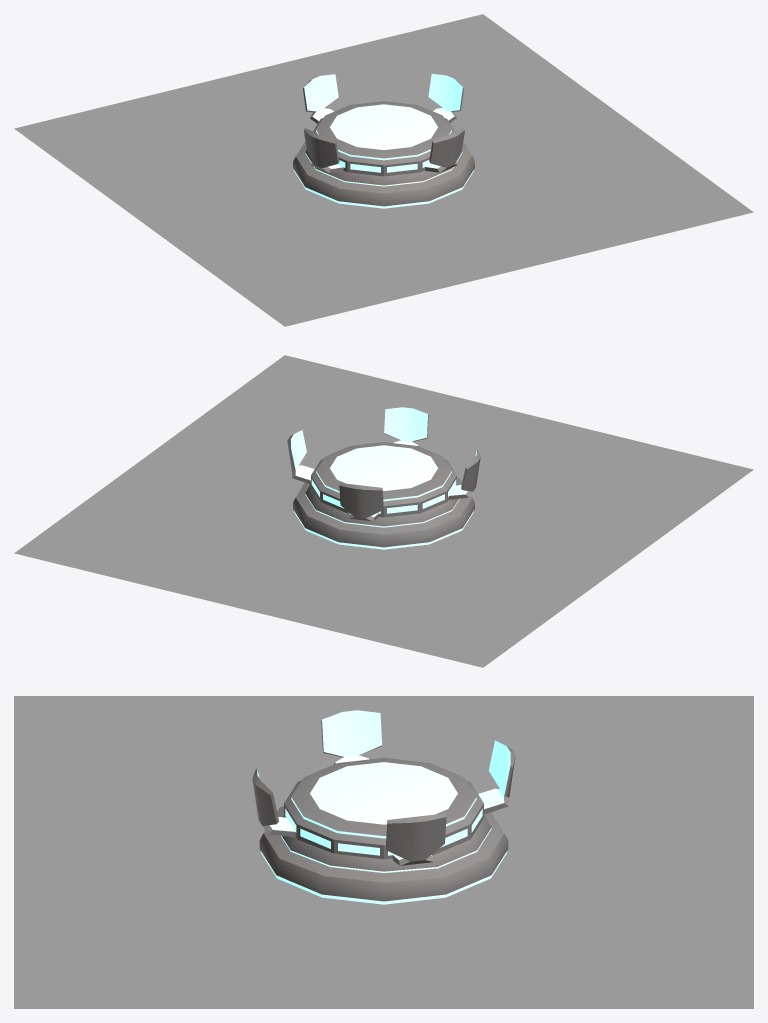
File: SPW0110004.fbx
3 views of the same model, one above another, from view 1: azimuth 30°, elevation 25°; view 2: azimuth 150°, elevation 25°; view 3: azimuth 270°, elevation 25° (orthographic). The views are drawn at different scales.
Visible parts, largest first — view 1: smSPW0110004; view 2: smSPW0110004; view 3: smSPW0110004.
Part boxes in pixels (x1,y1,x2,y2): smSPW0110004: (14, 14, 753, 326); smSPW0110004: (14, 355, 753, 667); smSPW0110004: (14, 696, 753, 1008).
Bounding box in the file's own units: 497 × 68.87 × 497.
2 materials, 1 textured.
